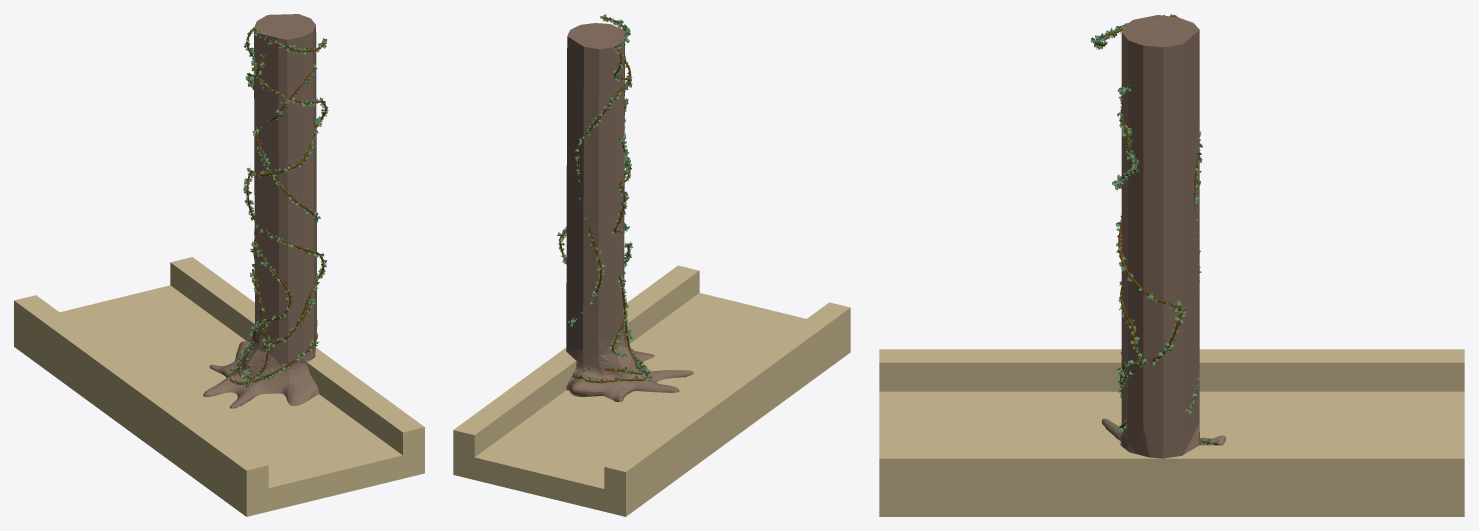
3 renders of one model, left to right at view 1: azimuth 30°, elevation 25°; view 2: azimuth 150°, elevation 25°; view 3: azimuth 270°, elevation 25°, orthographic. The views are drawn at different scales.
Visible parts, largest first — view 1: pl1, tree; view 2: pl1, tree; view 3: pl1, tree.
Boxes of the visible parts, x1,y1,x2,y2 form: pl1: (14, 257, 424, 516); tree: (203, 14, 328, 408); pl1: (453, 265, 850, 516); tree: (557, 14, 693, 402); pl1: (879, 349, 1464, 516); tree: (1090, 14, 1225, 458).
Size of the model in its own units: 8.23 by 15.95 by 18.
